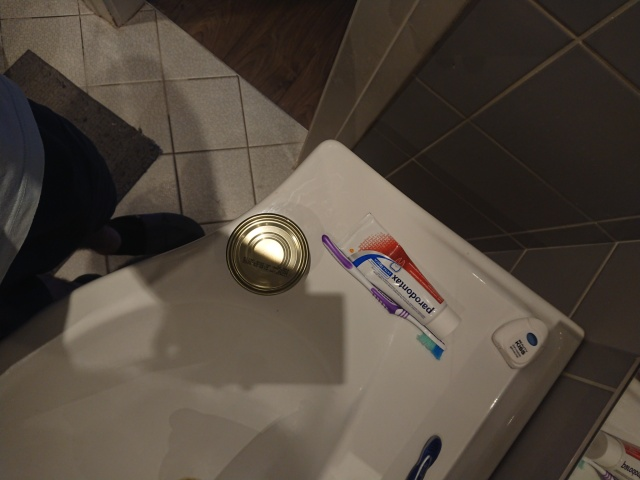Giana Tuna Salad Mexico 185g: (224, 211, 314, 298)
